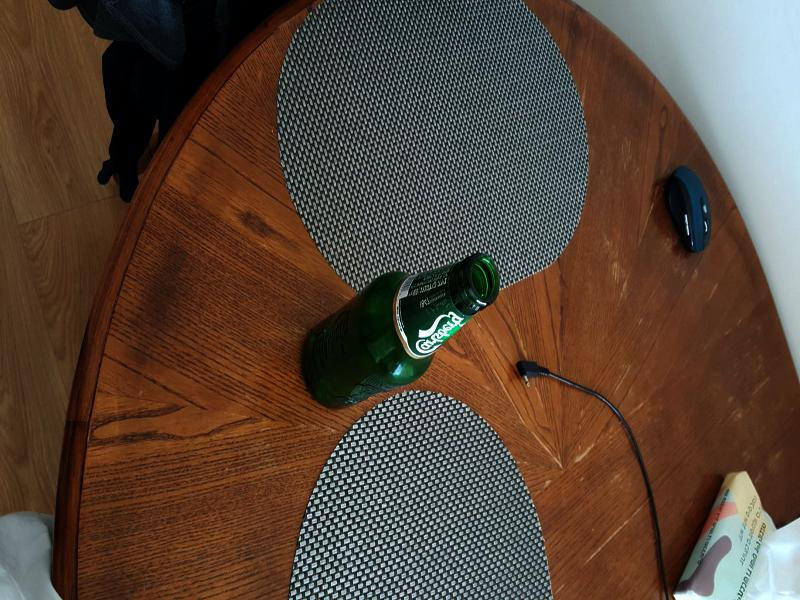Beer: (297, 251, 498, 416)
